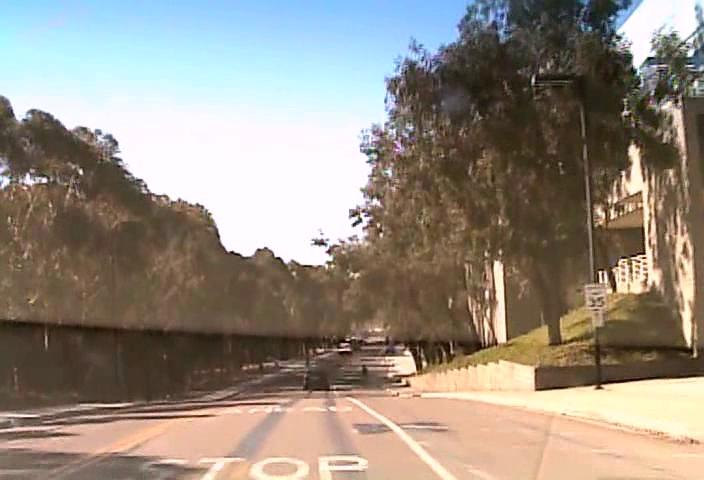speedLimit35: (584, 283, 607, 311)
